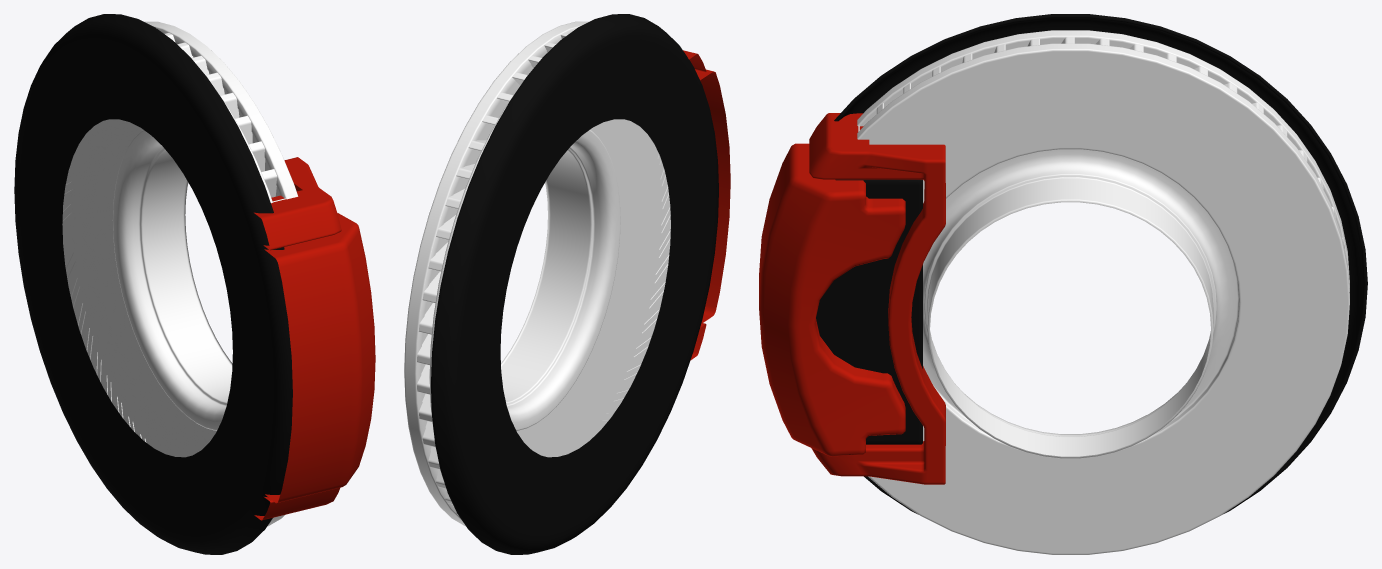
The model's file is brakes_stock.gltf.
The picture shows the model from 3 angles, left to right: view 1: azimuth 30°, elevation 25°; view 2: azimuth 150°, elevation 25°; view 3: azimuth 270°, elevation 25°; orthographic projection. The views are drawn at different scales.
Visible parts, largest first — view 1: dust_shields, brake_rotors, calipers; view 2: dust_shields, brake_rotors, calipers; view 3: brake_rotors, calipers, dust_shields.
Part boxes in pixels (<box>): dust_shields: <box>14,14,292,554</box>; brake_rotors: <box>62,21,298,526</box>; calipers: <box>254,157,375,520</box>; dust_shields: <box>431,14,718,554</box>; brake_rotors: <box>404,21,670,526</box>; calipers: <box>683,50,730,360</box>; brake_rotors: <box>857,30,1349,554</box>; calipers: <box>759,113,945,484</box>; dust_shields: <box>816,14,1367,514</box>.
Size of the model in its own units: 0.0674 by 0.308 by 0.3159.
